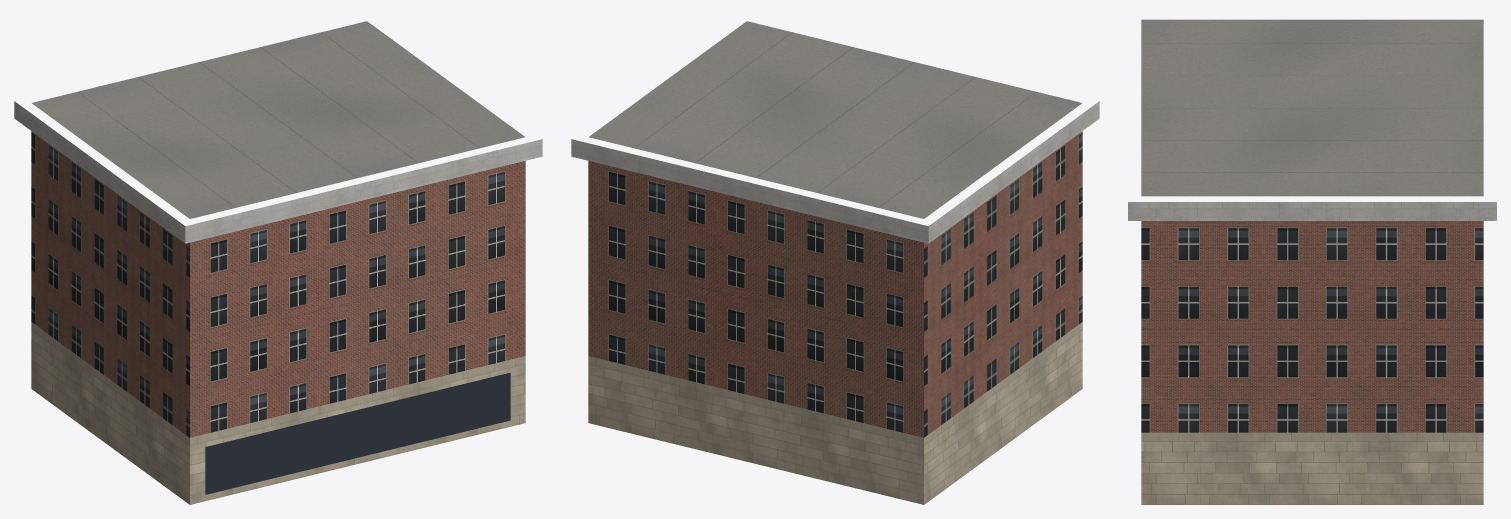
File: dc_brick_corner.glb
The picture shows the model from 3 angles, left to right: view 1: azimuth 30°, elevation 25°; view 2: azimuth 150°, elevation 25°; view 3: azimuth 270°, elevation 25°; orthographic projection. The views are drawn at different scales.
Parts seen in each view (by area): view 1: dc_brick_corner; view 2: dc_brick_corner; view 3: dc_brick_corner.
Part boxes in pixels (x1,y1,x2,y2): dc_brick_corner: (14,21,542,504); dc_brick_corner: (571,21,1099,504); dc_brick_corner: (1128,19,1496,504).
Bounding box in the file's own units: 23.4 × 17.9 × 19.4.
5 materials, 5 textured.
